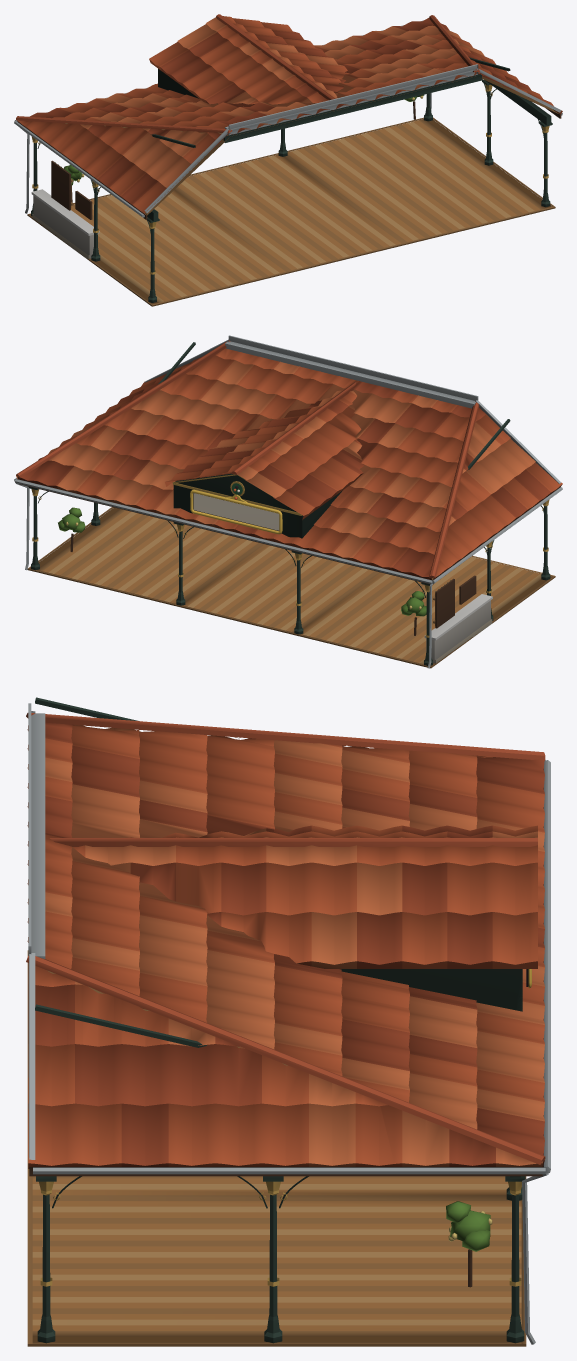
File: pav_billiards.glb
3 views of the same model, one above another, from view 1: azimuth 30°, elevation 25°; view 2: azimuth 150°, elevation 25°; view 3: azimuth 270°, elevation 25° (orthographic). The views are drawn at different scales.
Parts seen in each view (by area): view 1: static_billiards; view 2: static_billiards; view 3: static_billiards.
Boxes of the visible parts, x1,y1,x2,y2 form: static_billiards: (14,14,562,306); static_billiards: (14,335,562,668); static_billiards: (26,697,550,1346).
Bounding box in the file's own units: 16.06 × 5.92 × 8.68.
